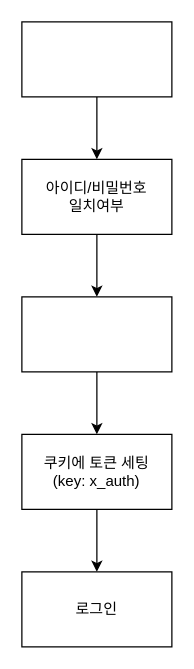
The diagram is 194 pixels wide and 669 high, and some of its shapes have lost their labels. Each missing label, with the centre of its shape:
"로그인 요청" goes at pixel 96 59.
"토큰 생성" goes at pixel 96 334.
